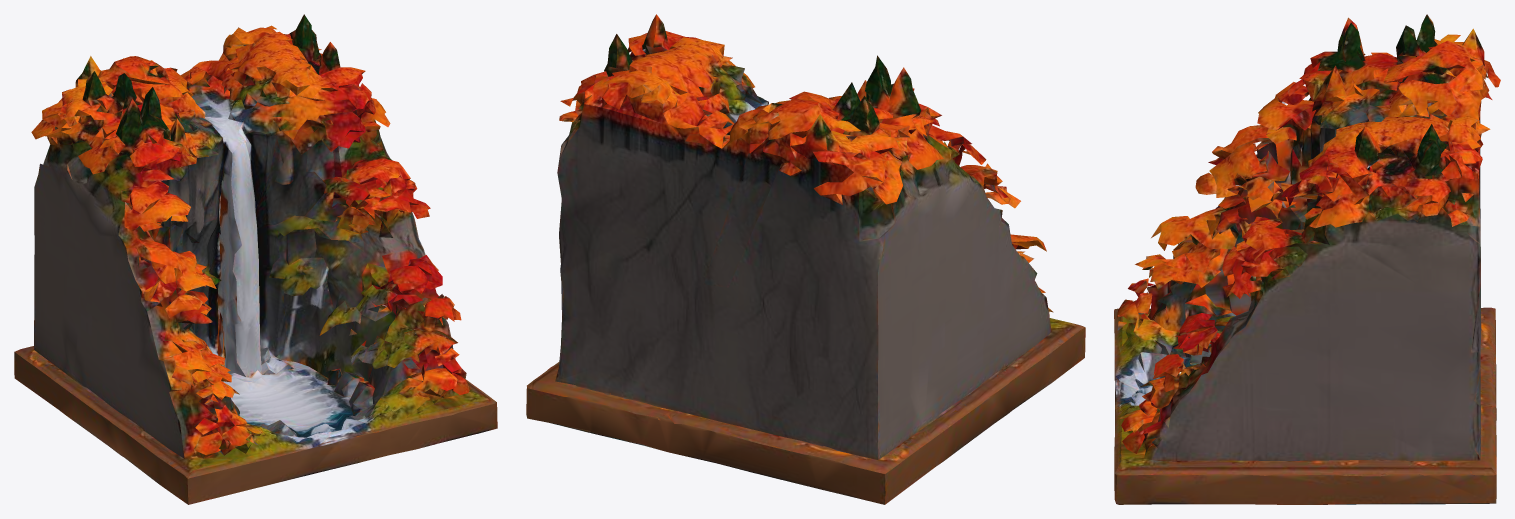
Rendered from kegon-falls.glb.
3 views of the same model, side by side, from view 1: azimuth 30°, elevation 25°; view 2: azimuth 150°, elevation 25°; view 3: azimuth 270°, elevation 25° (orthographic). The views are drawn at different scales.
Parts seen in each view (by area): view 1: logan-textured.obj; view 2: logan-textured.obj; view 3: logan-textured.obj.
Boxes of the visible parts, x1,y1,x2,y2 form: logan-textured.obj: [14, 14, 497, 504]; logan-textured.obj: [526, 14, 1085, 504]; logan-textured.obj: [1114, 14, 1500, 504].
Size of the model in its own units: 1 by 0.9916 by 0.979.
Materials: 1 (1 with a texture image).
